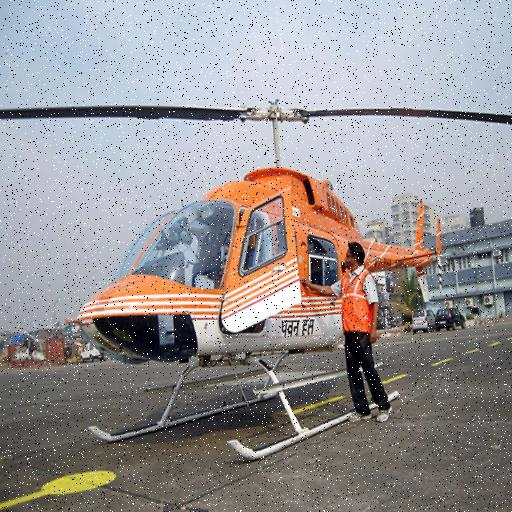helicopter: (25, 82, 479, 481)
